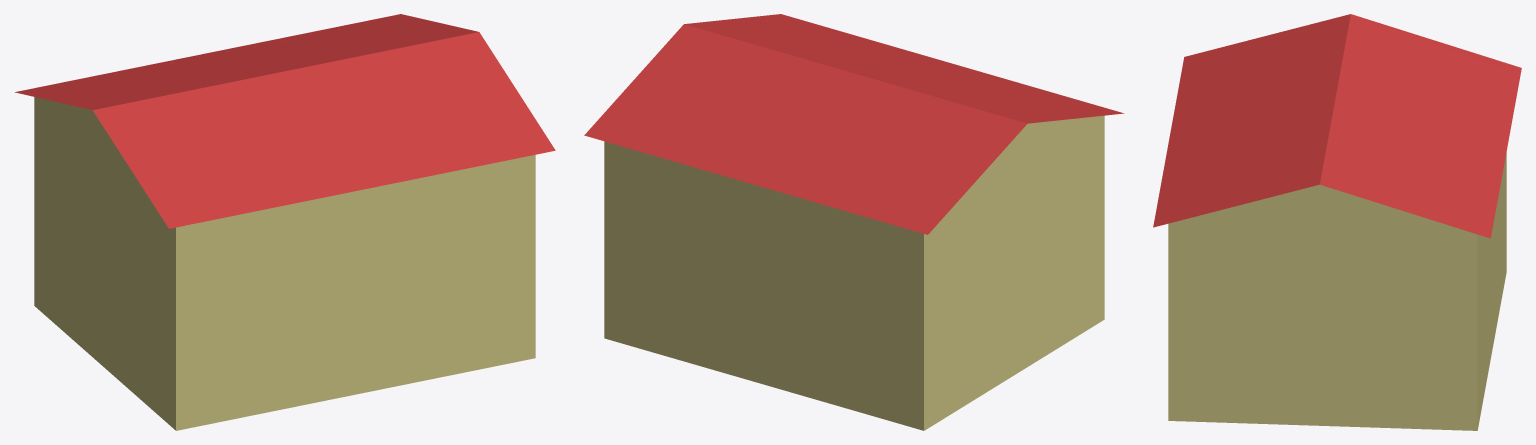
3 views of the same model, side by side, from view 1: azimuth 30°, elevation 25°; view 2: azimuth 150°, elevation 25°; view 3: azimuth 270°, elevation 25° (orthographic). The views are drawn at different scales.
Size of the model in its own units: 15.13 by 12.98 by 9.6.
